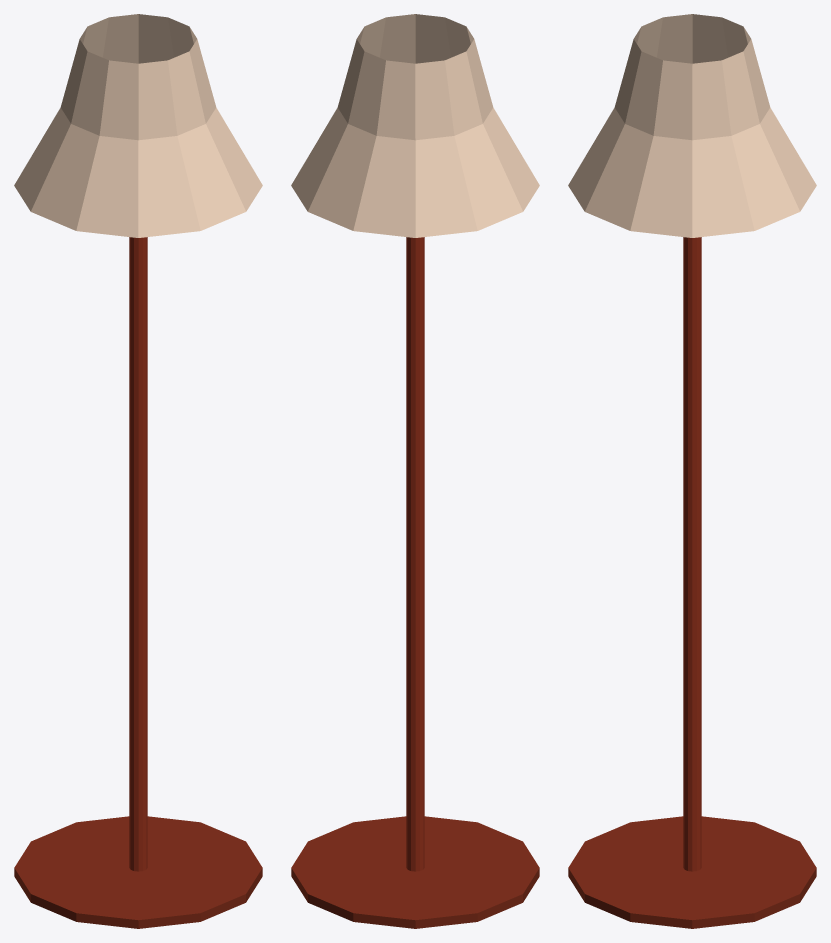
File: large_lamp.fbx
The picture shows the model from 3 angles, left to right: view 1: azimuth 30°, elevation 25°; view 2: azimuth 150°, elevation 25°; view 3: azimuth 270°, elevation 25°; orthographic projection.
Visible parts, largest first — view 1: Circle.001; view 2: Circle.001; view 3: Circle.001.
Boxes of the visible parts, x1,y1,x2,y2 form: Circle.001: (14,14,262,928); Circle.001: (291,14,539,928); Circle.001: (568,14,816,928).
Bounding box in the file's own units: 200 × 744 × 200.
